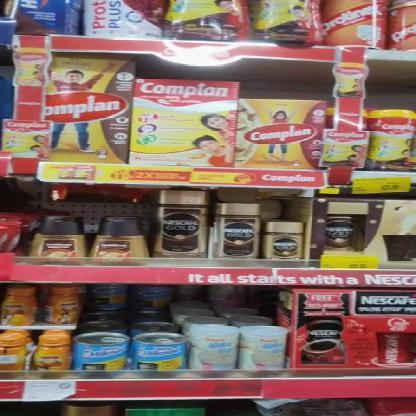Complan Kesar Badam: (131, 79, 241, 167), (238, 99, 328, 171)
Complan Royal Chocolate: (48, 60, 132, 165)
